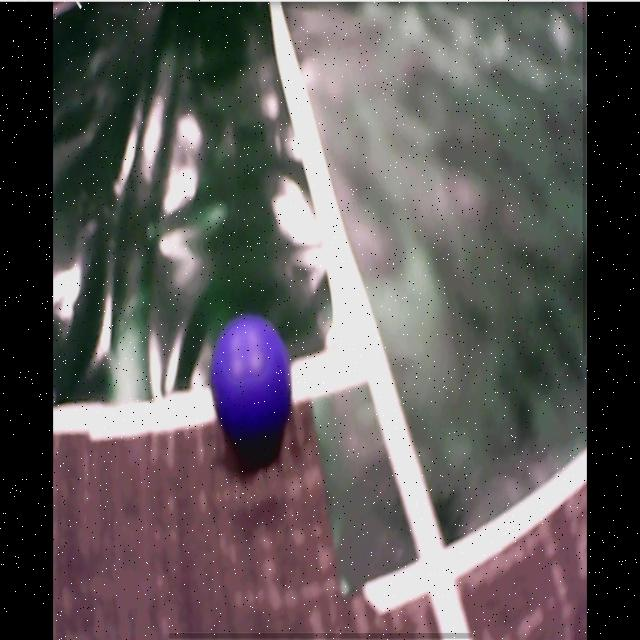ball: (211, 315, 292, 445)
